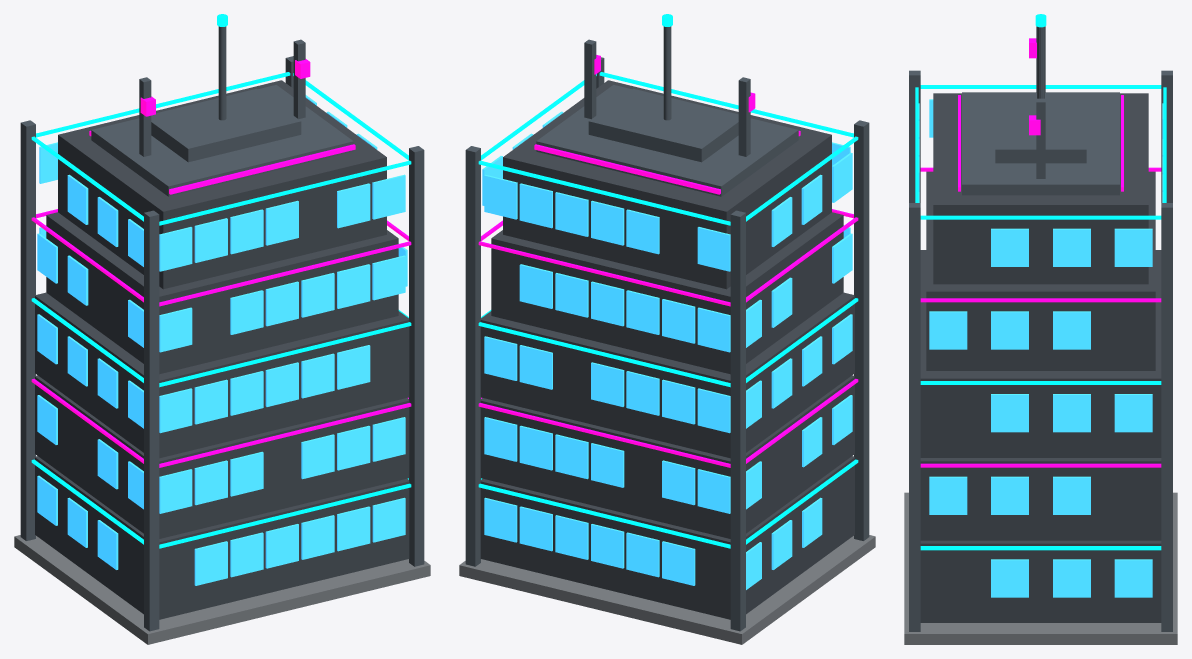
File: stage 5.glb
The picture shows the model from 3 angles, left to right: view 1: azimuth 30°, elevation 25°; view 2: azimuth 150°, elevation 25°; view 3: azimuth 270°, elevation 25°; orthographic projection. The views are drawn at different scales.
Visible parts, largest first — view 1: BuildingMass.002, Windows.002, CornerPylons, TechCrown, Foundation.004, CyanFloorBands, MagentaFloorBands, CrownGlow, Antenna; view 2: BuildingMass.002, Windows.002, CornerPylons, TechCrown, Foundation.004, CyanFloorBands, MagentaFloorBands, CrownGlow, Antenna; view 3: BuildingMass.002, Windows.002, TechCrown, CornerPylons, Foundation.004, CyanFloorBands, MagentaFloorBands, CrownGlow, Antenna.
Boxes of the visible parts, <box> form: BuildingMass.002: <box>35,80,409,619</box>; Windows.002: <box>37,95,407,585</box>; CornerPylons: <box>20,56,424,631</box>; TechCrown: <box>91,39,353,196</box>; Foundation.004: <box>14,535,430,644</box>; CyanFloorBands: <box>31,72,411,548</box>; MagentaFloorBands: <box>31,209,411,467</box>; CrownGlow: <box>89,59,355,194</box>; Antenna: <box>218,26,226,120</box>; BuildingMass.002: <box>480,80,854,619</box>; Windows.002: <box>482,111,852,589</box>; CornerPylons: <box>465,57,869,631</box>; TechCrown: <box>536,39,798,196</box>; Foundation.004: <box>459,535,875,644</box>; CyanFloorBands: <box>478,72,858,548</box>; MagentaFloorBands: <box>478,209,858,467</box>; CrownGlow: <box>534,55,800,194</box>; Antenna: <box>663,26,671,120</box>; BuildingMass.002: <box>920,93,1161,622</box>; Windows.002: <box>918,99,1163,597</box>; TechCrown: <box>962,26,1119,195</box>; CornerPylons: <box>909,70,1172,631</box>; Foundation.004: <box>904,492,1177,644</box>; CyanFloorBands: <box>915,85,1166,550</box>; MagentaFloorBands: <box>920,167,1161,467</box>; CrownGlow: <box>958,38,1123,191</box>; Antenna: <box>1037,26,1044,98</box>.
Bounding box in the file's own units: 11 × 20.26 × 9.
